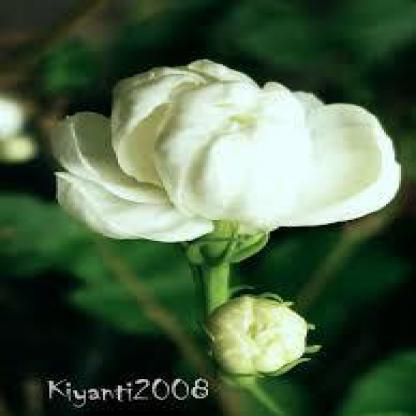Melati: (29, 54, 406, 266), (181, 287, 344, 382)
